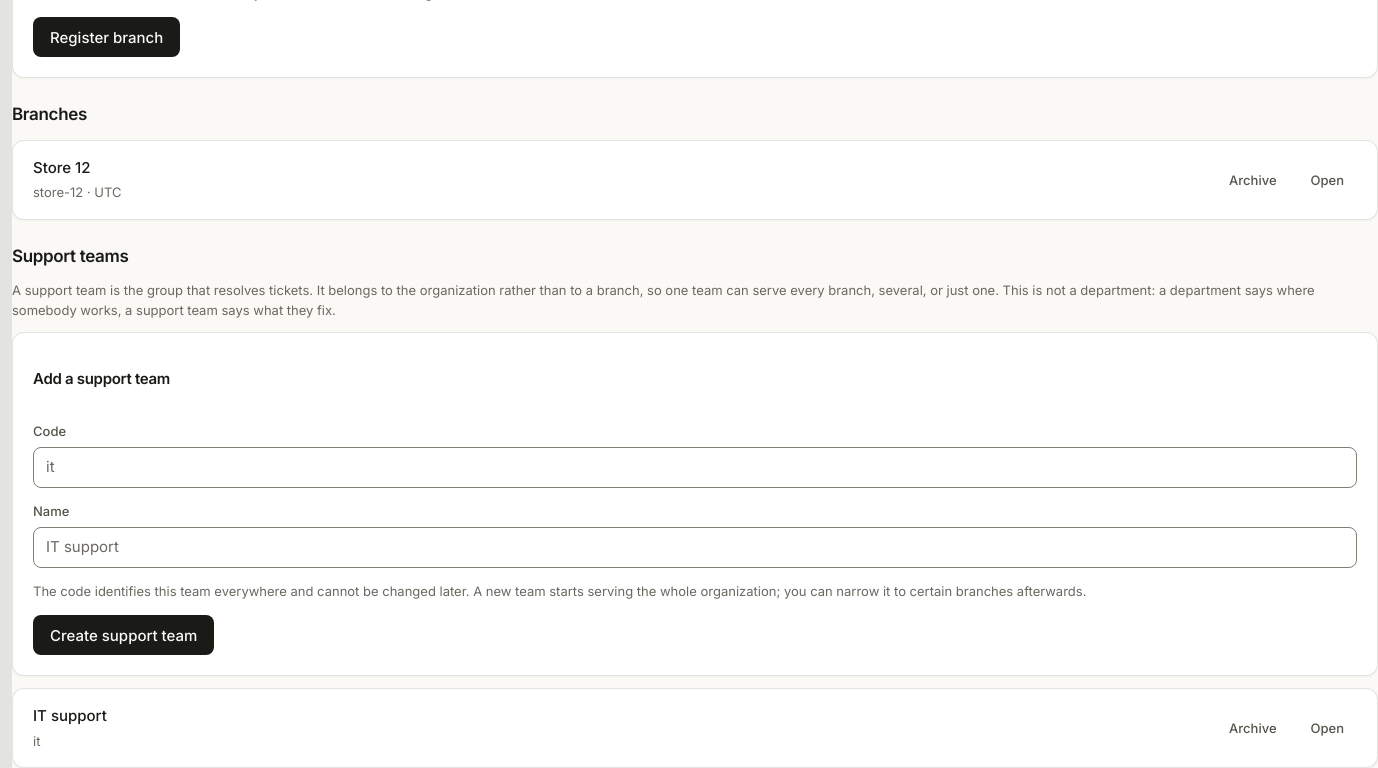
it: the support teams section › reads no coverage rows as the whole organization, not as nothing
(page scrolled)
Expected: the text "IT support" is shown, [33, 705, 107, 728]
Click the button "Open" in the row of "IT support".
click(1327, 728)  # box [1298, 712, 1357, 744]
(page scrolled)
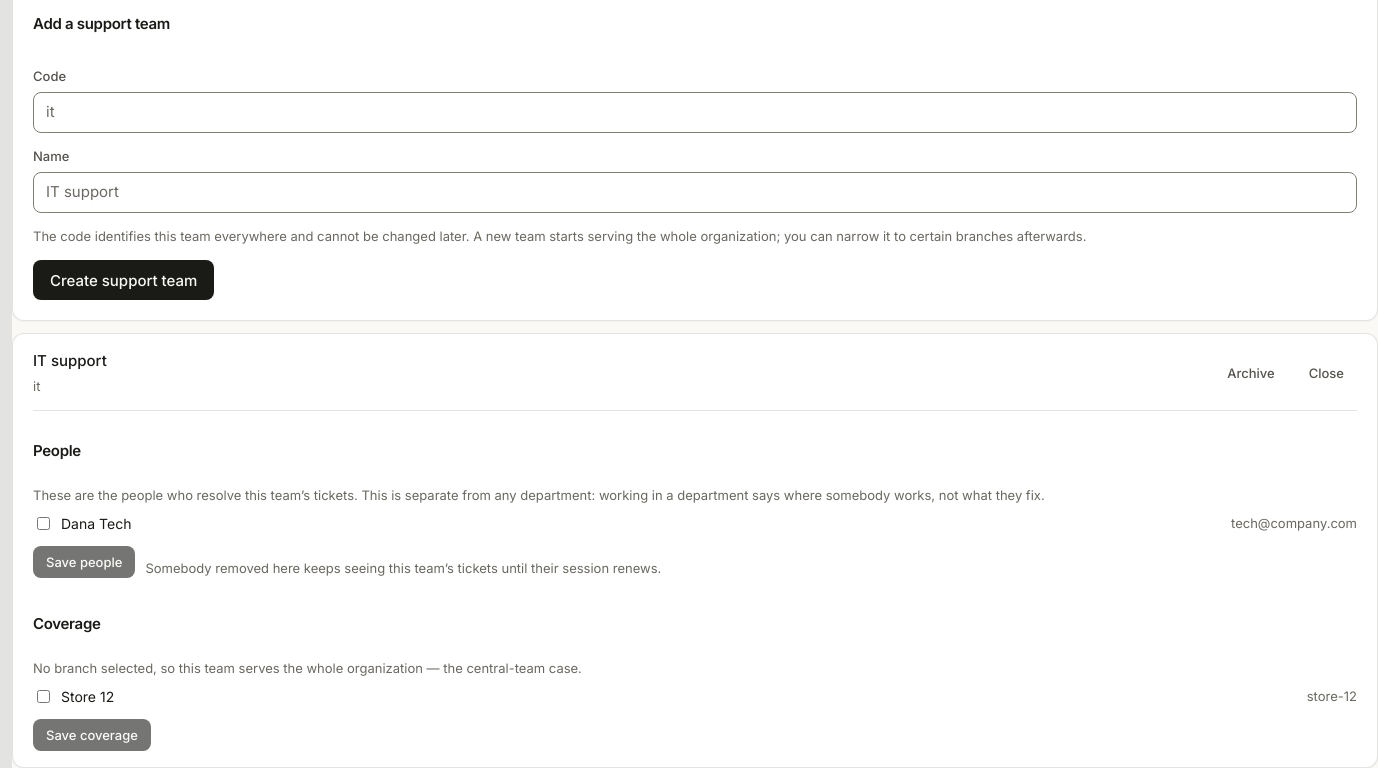
Now the text "serves the whole organization" is shown, box [33, 660, 582, 676]
